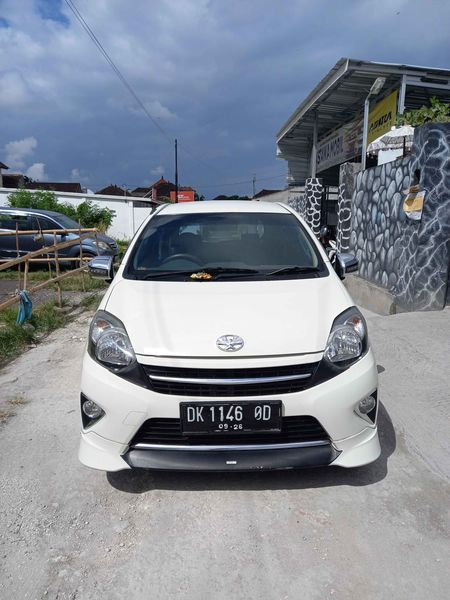plate: (174, 397, 288, 433)
